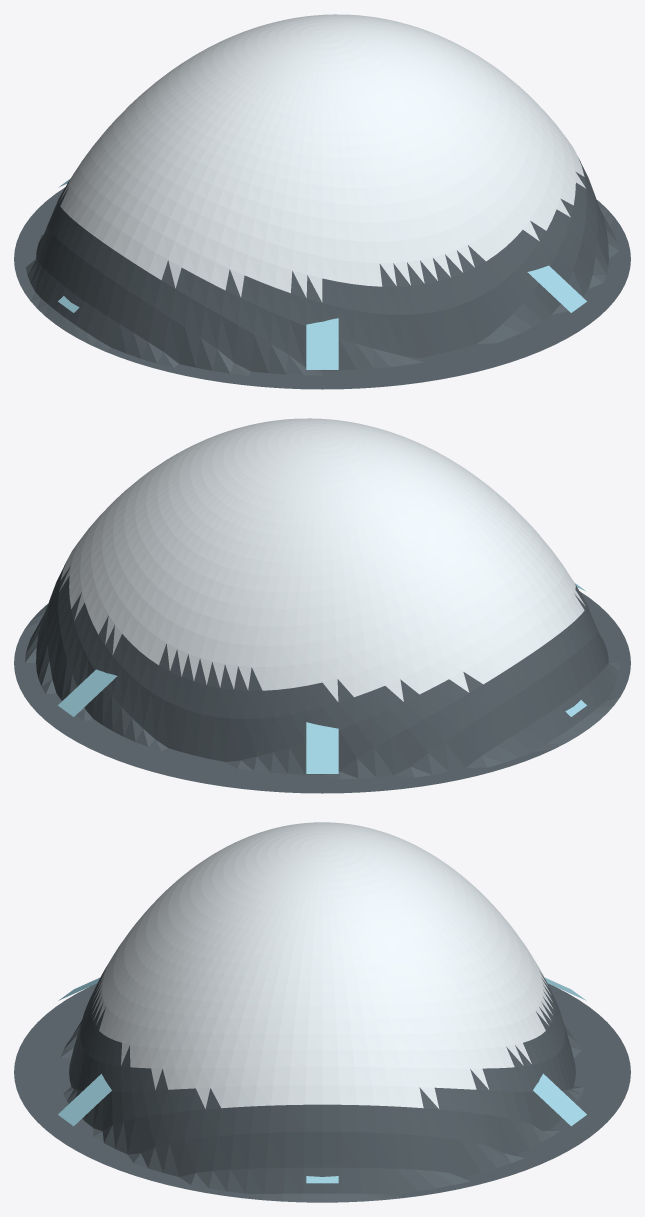
Rendered from FEATURE_EYJAFJALLAJOKULL.fbx.
3 views of the same model, one above another, from view 1: azimuth 30°, elevation 25°; view 2: azimuth 150°, elevation 25°; view 3: azimuth 270°, elevation 25° (orthographic).
Parts seen in each view (by area): view 1: Ice_cap, Glacial_tongue.004, Glacial_tongue.005; view 2: Ice_cap, Glacial_tongue.002, Glacial_tongue.001; view 3: Ice_cap, Glacial_tongue.001, Glacial_tongue.005.
Part boxes in pixels (x1=…): Ice_cap: x1=14, y1=14, x2=630, y2=389; Glacial_tongue.004: x1=306, y1=318, x2=338, y2=369; Glacial_tongue.005: x1=527, y1=265, x2=586, y2=312; Ice_cap: x1=14, y1=418, x2=630, y2=793; Glacial_tongue.002: x1=306, y1=722, x2=338, y2=773; Glacial_tongue.001: x1=58, y1=669, x2=117, y2=716; Ice_cap: x1=14, y1=822, x2=630, y2=1202; Glacial_tongue.001: x1=533, y1=1073, x2=586, y2=1126; Glacial_tongue.005: x1=58, y1=1074, x2=111, y2=1126.
Bounding box in the file's own units: 154 × 62 × 154.
